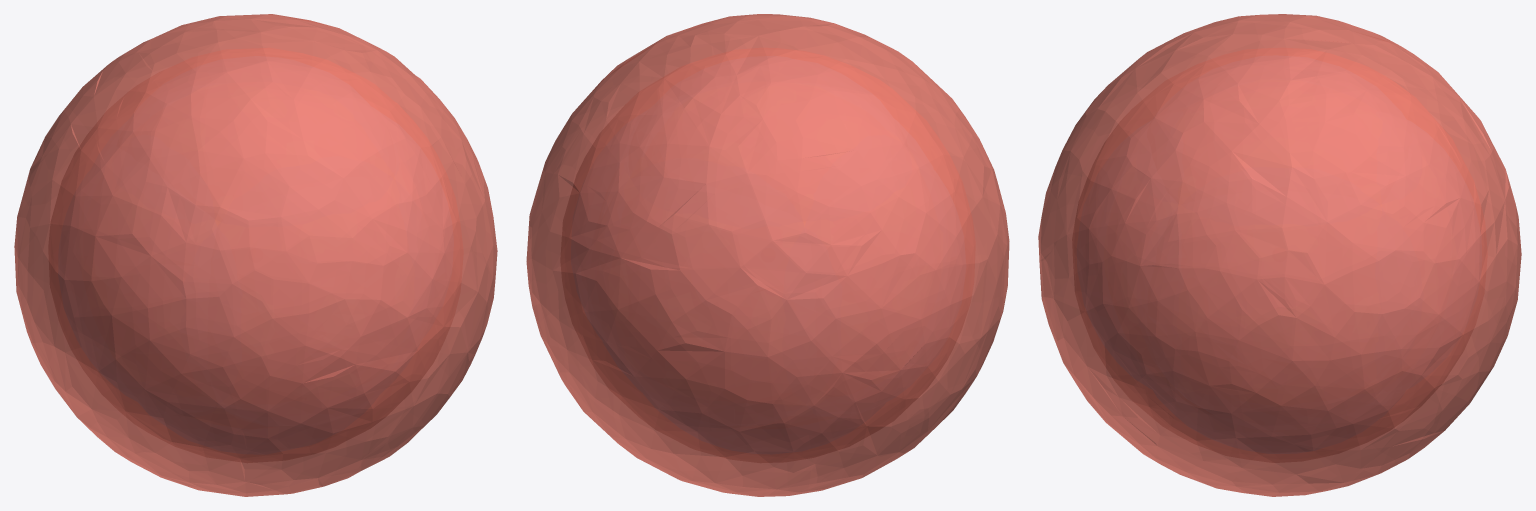
3 renders of one model, left to right at view 1: azimuth 30°, elevation 25°; view 2: azimuth 150°, elevation 25°; view 3: azimuth 270°, elevation 25°, orthographic.
Visible parts, largest first — view 1: Bk_n7_s_ml0_node, Bk_n6_s_ml0_node; view 2: Bk_n7_s_ml0_node, Bk_n6_s_ml0_node; view 3: Bk_n7_s_ml0_node, Bk_n6_s_ml0_node.
Part boxes in pixels (x1,y1,x2,y2): Bk_n7_s_ml0_node: [14, 14, 497, 496]; Bk_n6_s_ml0_node: [48, 48, 463, 462]; Bk_n7_s_ml0_node: [526, 14, 1009, 496]; Bk_n6_s_ml0_node: [560, 48, 975, 462]; Bk_n7_s_ml0_node: [1038, 14, 1521, 496]; Bk_n6_s_ml0_node: [1072, 48, 1487, 462].
Size of the model in its own units: 3.55 by 3.56 by 3.55.
